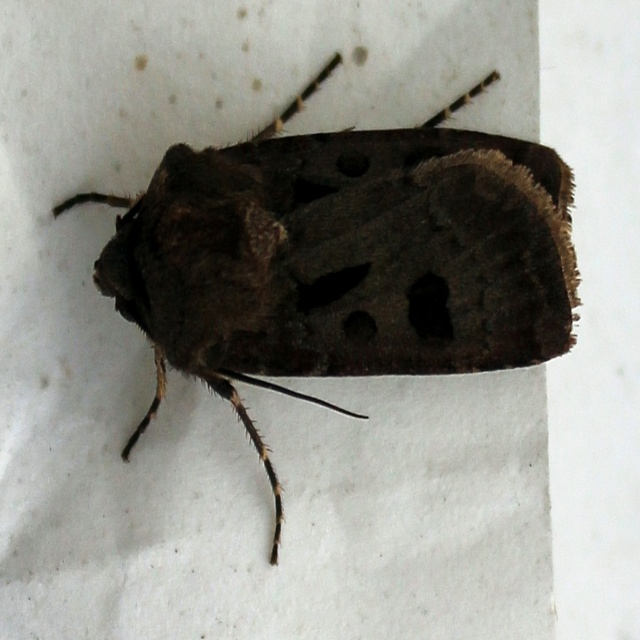Moths and butterflies: (50, 47, 586, 555)
